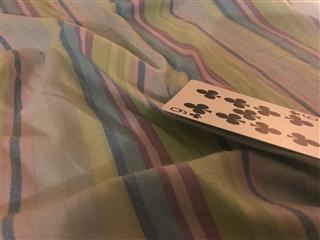NineOfClubs: (159, 78, 320, 158)
